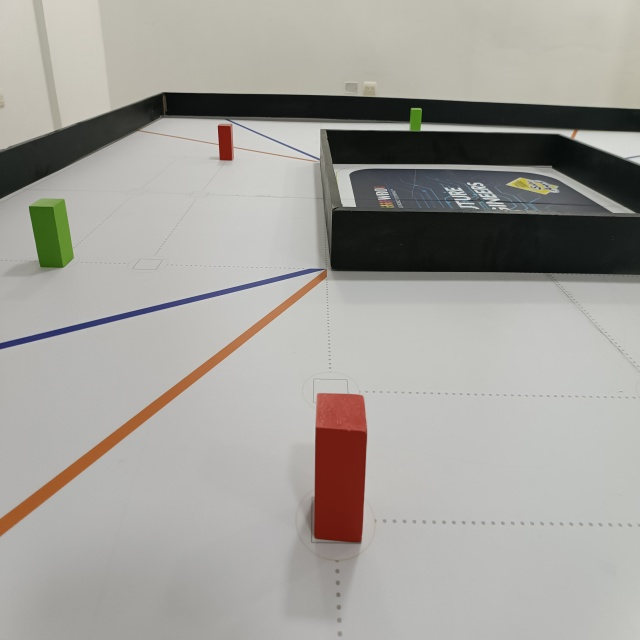blue line: (0, 265, 327, 356), (224, 119, 325, 162)
green rectangular prism: (25, 201, 76, 271), (404, 106, 428, 134)
orange line: (0, 270, 332, 537), (134, 125, 318, 166)
red rectangular prism: (312, 390, 370, 549), (216, 124, 235, 162)
